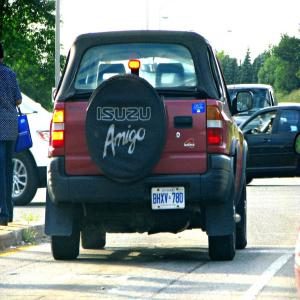Vehicle-registration-plate: (153, 186, 186, 210)
